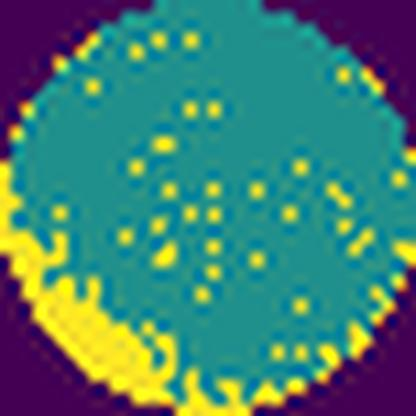Edge-Loc: (0, 156, 311, 416)
